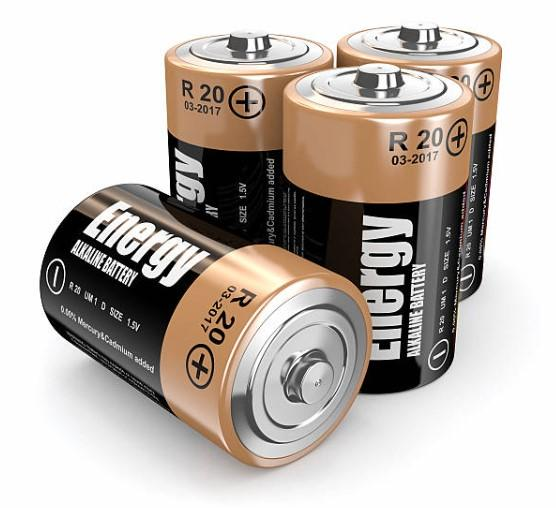Battery: (39, 184, 371, 468), (284, 63, 475, 394), (165, 31, 332, 244)
